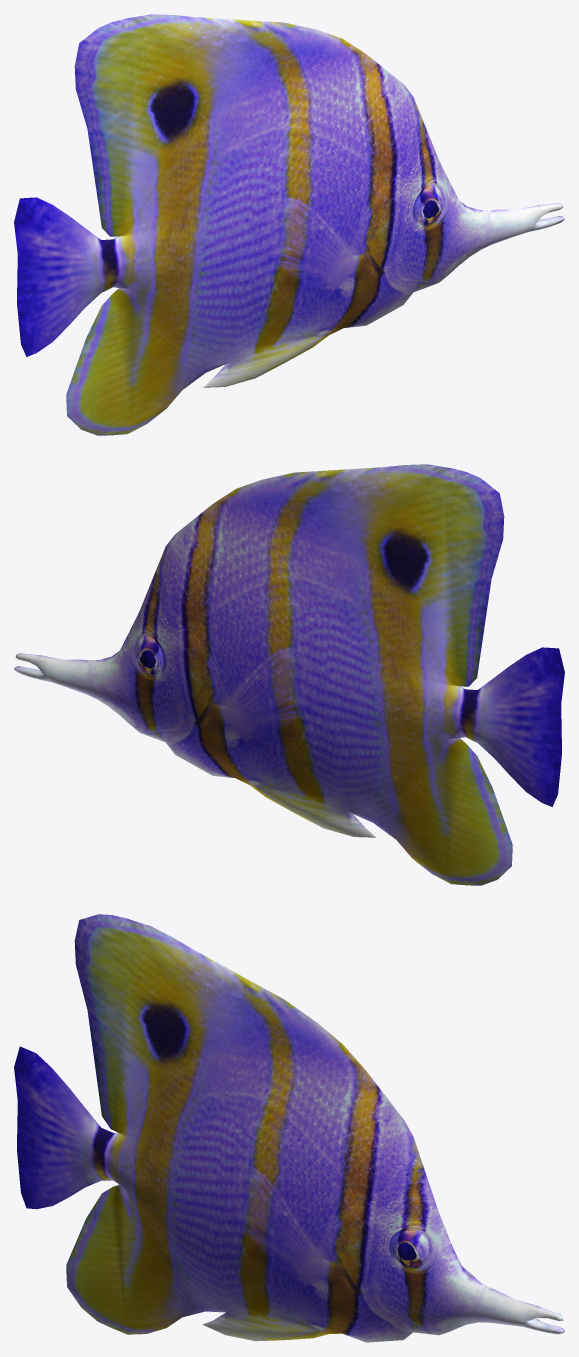
Rendered from ReefFish.fbx.
3 renders of one model, top to bottom at view 1: azimuth 30°, elevation 25°; view 2: azimuth 150°, elevation 25°; view 3: azimuth 330°, elevation 25°, orthographic.
Parts seen in each view (by area): view 1: fish:Mesh; view 2: fish:Mesh; view 3: fish:Mesh.
Part boxes in pixels (left/top/right/bottom): fish:Mesh: left=14, top=14, right=564, bottom=435; fish:Mesh: left=14, top=464, right=564, bottom=885; fish:Mesh: left=14, top=914, right=564, bottom=1342.
Size of the model in its own units: 1.38 by 0.9946 by 0.1639.
Materials: 1 (1 with a texture image).
